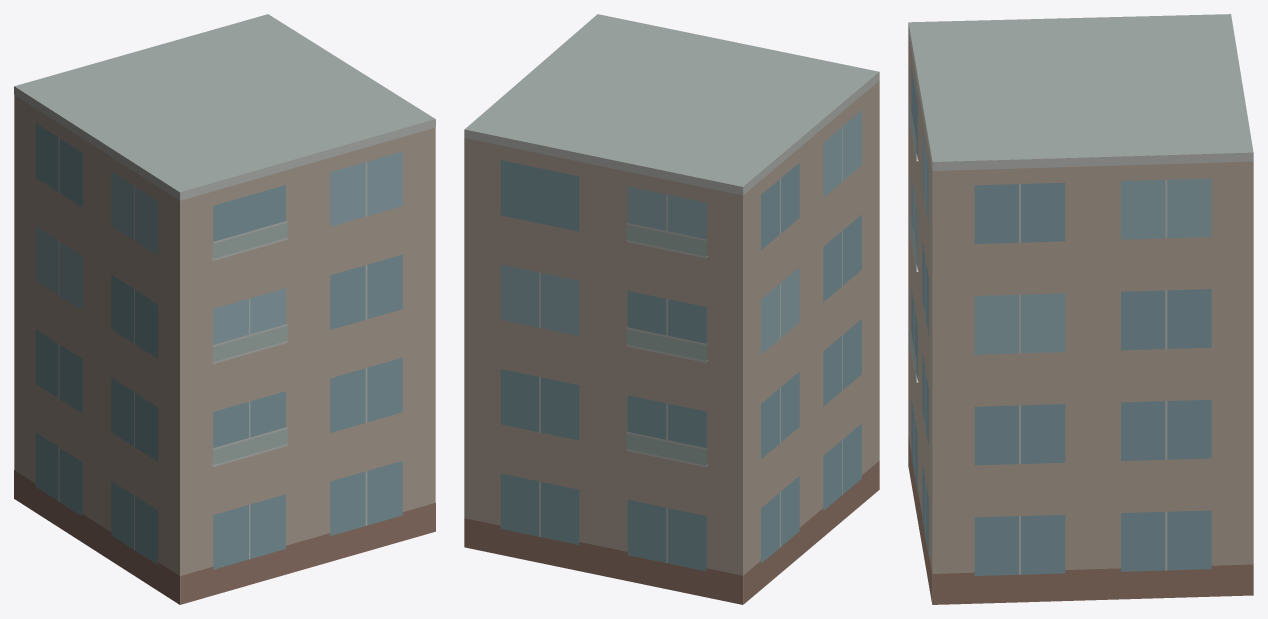
The model's file is survey-upis-32702520.glb.
The picture shows the model from 3 angles, left to right: view 1: azimuth 30°, elevation 25°; view 2: azimuth 150°, elevation 25°; view 3: azimuth 270°, elevation 25°; orthographic projection. The views are drawn at different scales.
Visible parts, largest first — view 1: survey-upis-32702520.tmp; view 2: survey-upis-32702520.tmp; view 3: survey-upis-32702520.tmp.
Boxes of the visible parts, x1,y1,x2,y2 form: survey-upis-32702520.tmp: [14, 14, 435, 604]; survey-upis-32702520.tmp: [464, 14, 879, 604]; survey-upis-32702520.tmp: [908, 14, 1253, 604].
Size of the model in its own units: 8.61 by 12 by 8.49.
